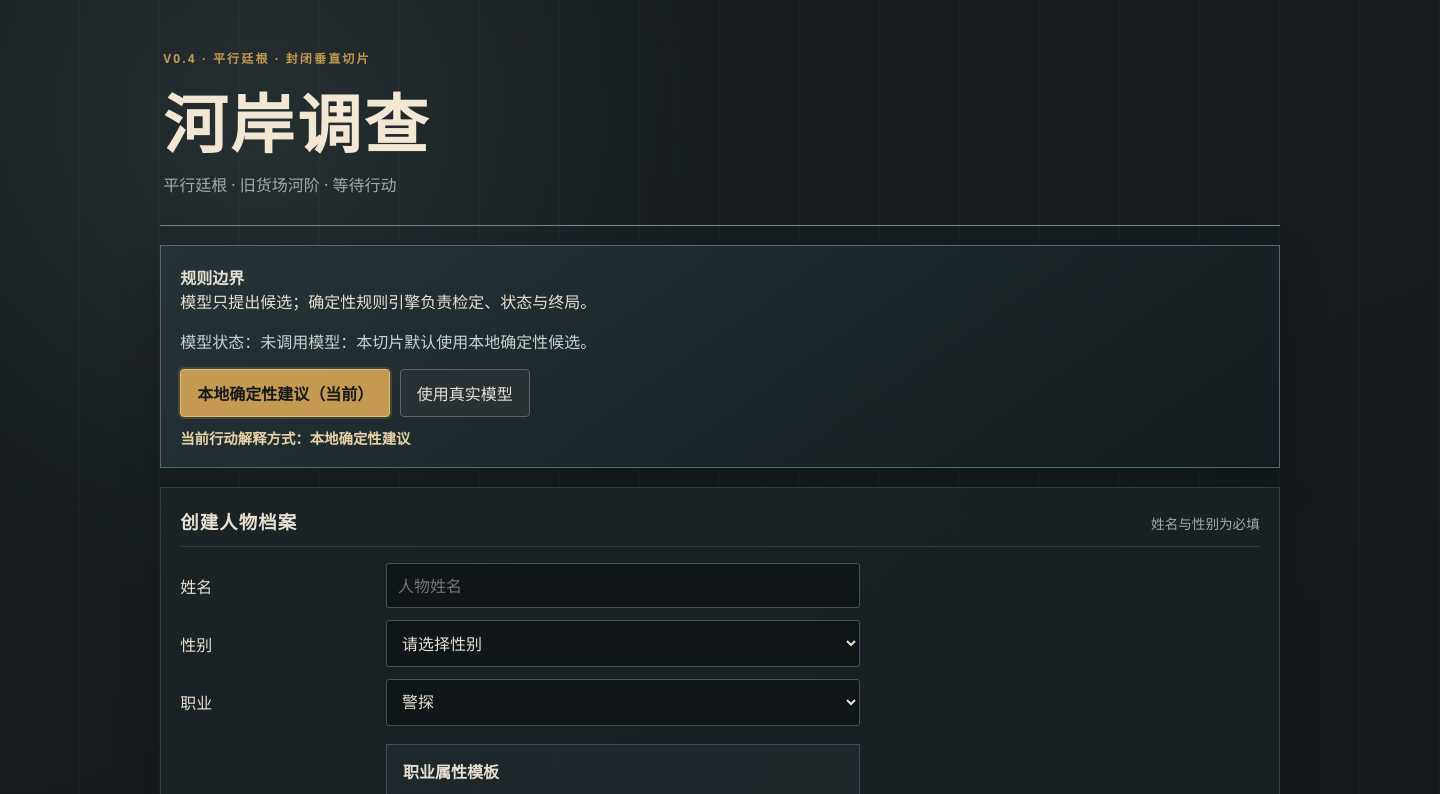
Test: V0.4 平行廷根可见切片 › 未知自由行动得到澄清，不会直接改变规则状态
Type "澄清测试员" into the field labelled "姓名" at (623, 586), box left=386, top=564, right=860, bottom=608
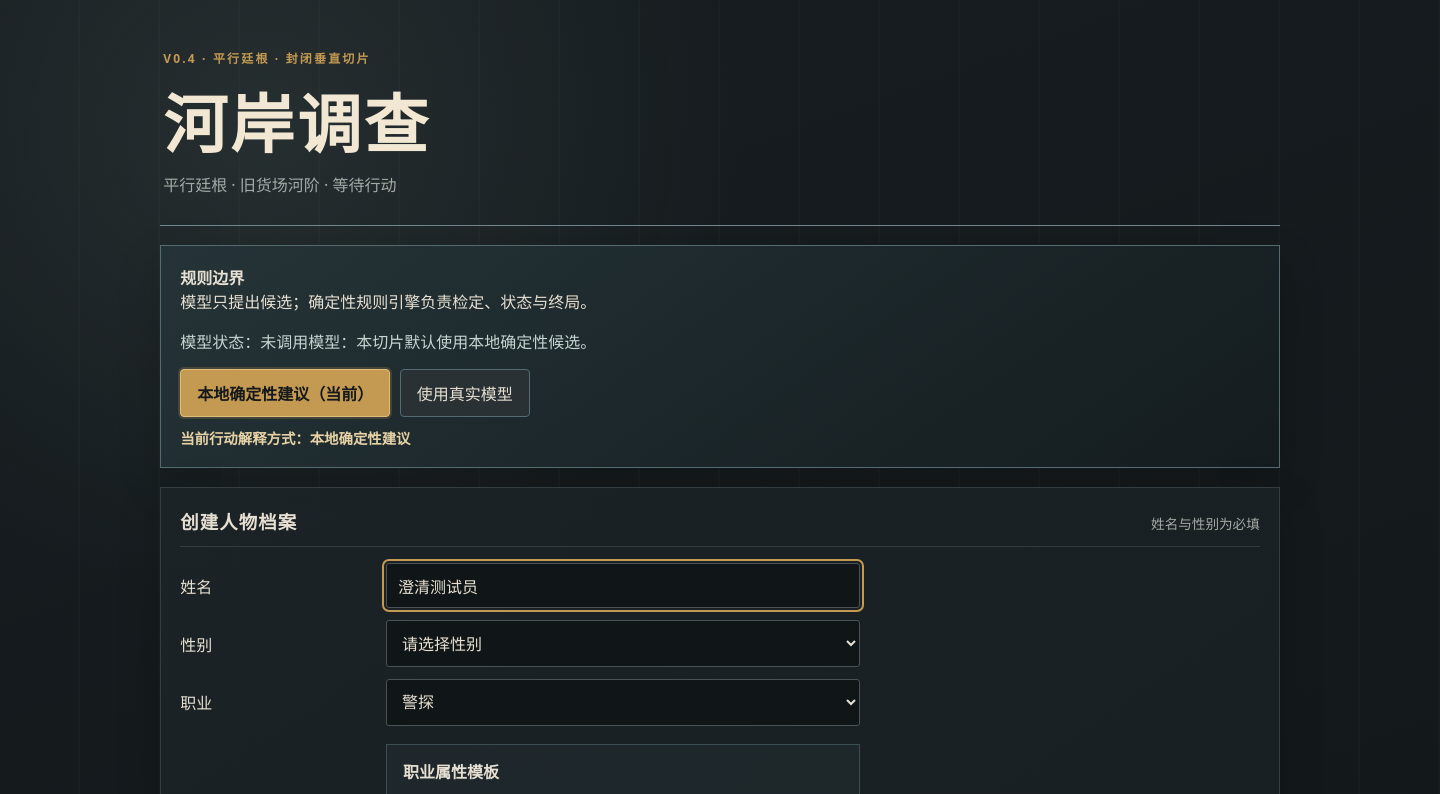
Select "男性" in the dropdown labelled "性别" at (623, 644), box left=386, top=620, right=860, bottom=667
(page scrolled)
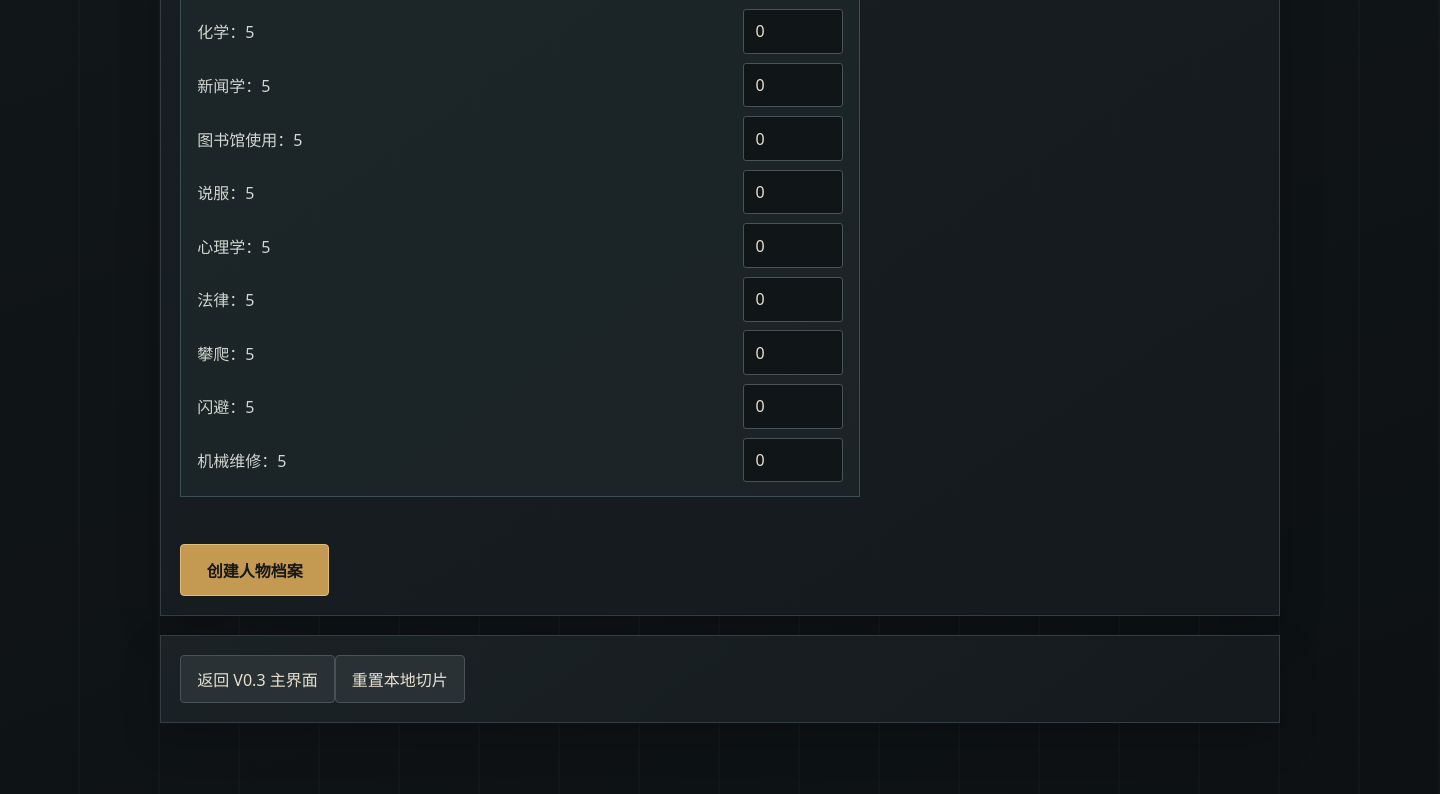
Click the button "创建人物档案" at (255, 570), box left=180, top=544, right=329, bottom=596
(page scrolled)
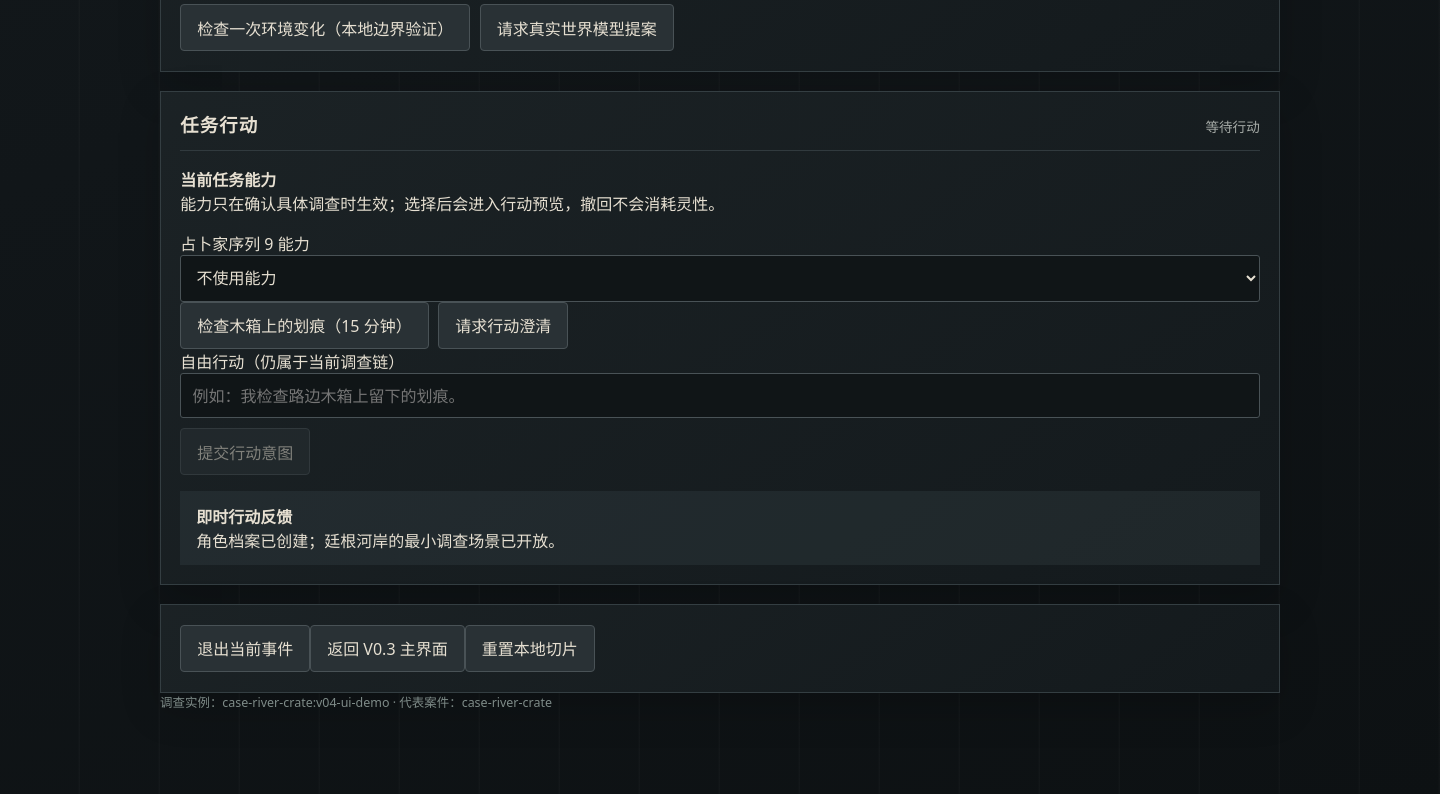
Type "我要求立即揭示真相。" into the field labelled "自由行动（仍属于当前调查链）" at (720, 396), box left=180, top=373, right=1260, bottom=418
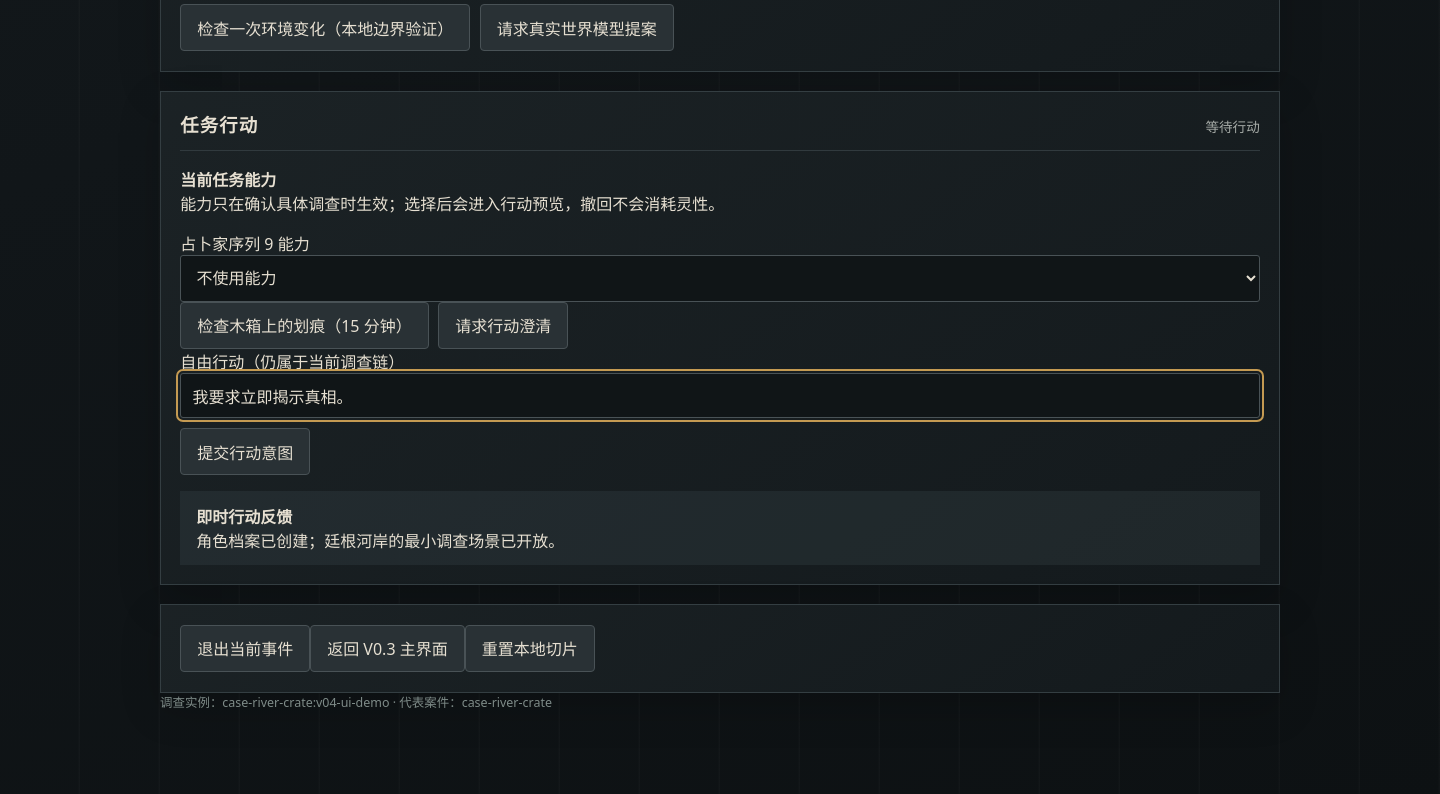
Click the button "提交行动意图" at (245, 452), box left=180, top=428, right=310, bottom=476
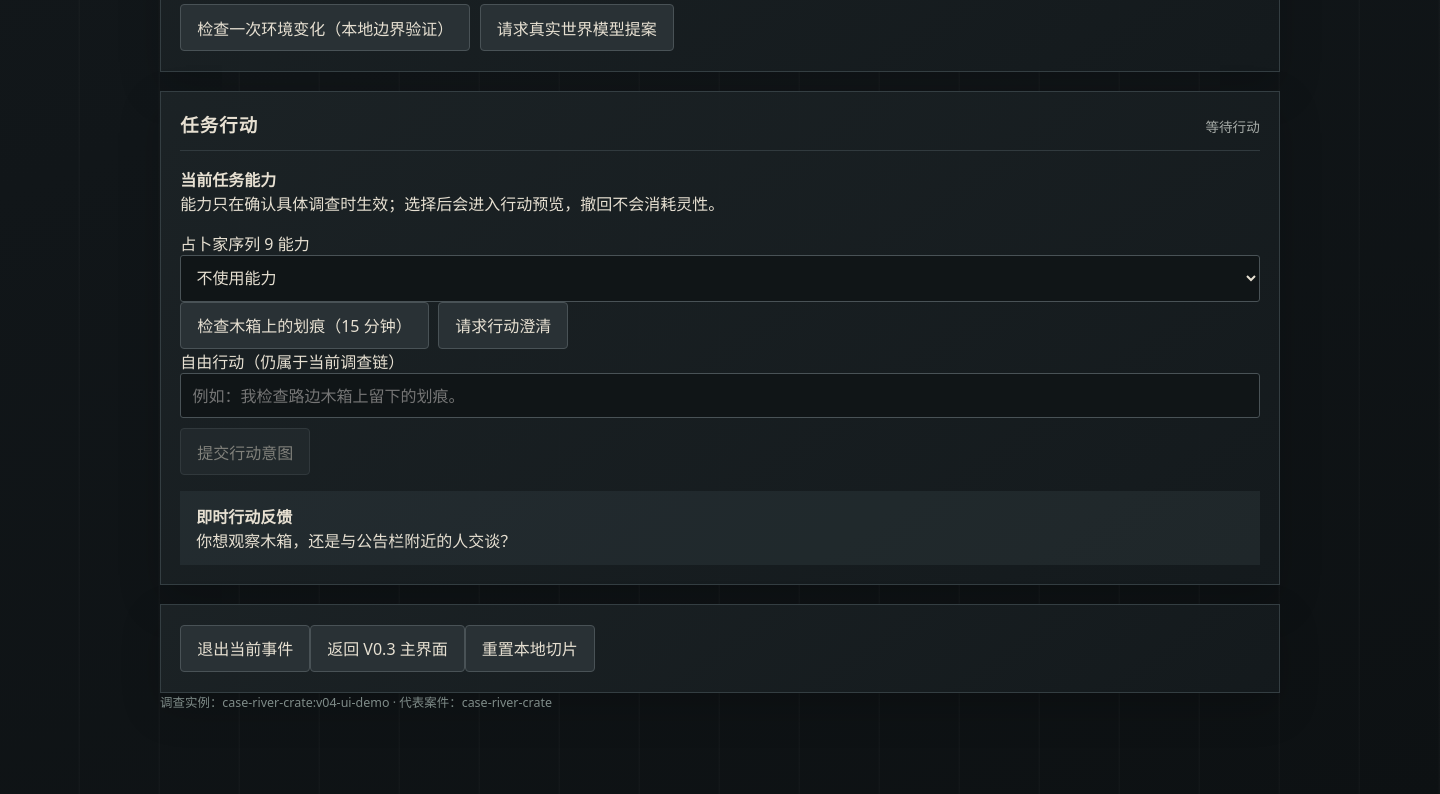
Check: the text "你想观察木箱，还是与公告栏附近的人交谈？" is shown, box left=196, top=530, right=516, bottom=552
